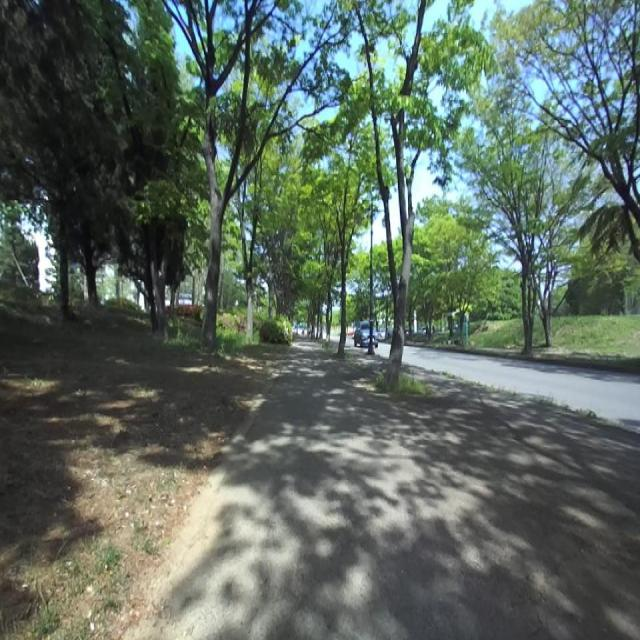sidewalk: (166, 342, 640, 639)
